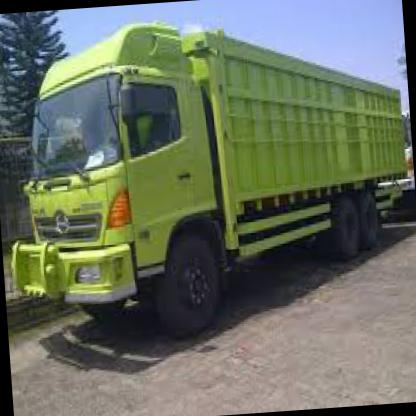truck: (18, 51, 228, 350)
